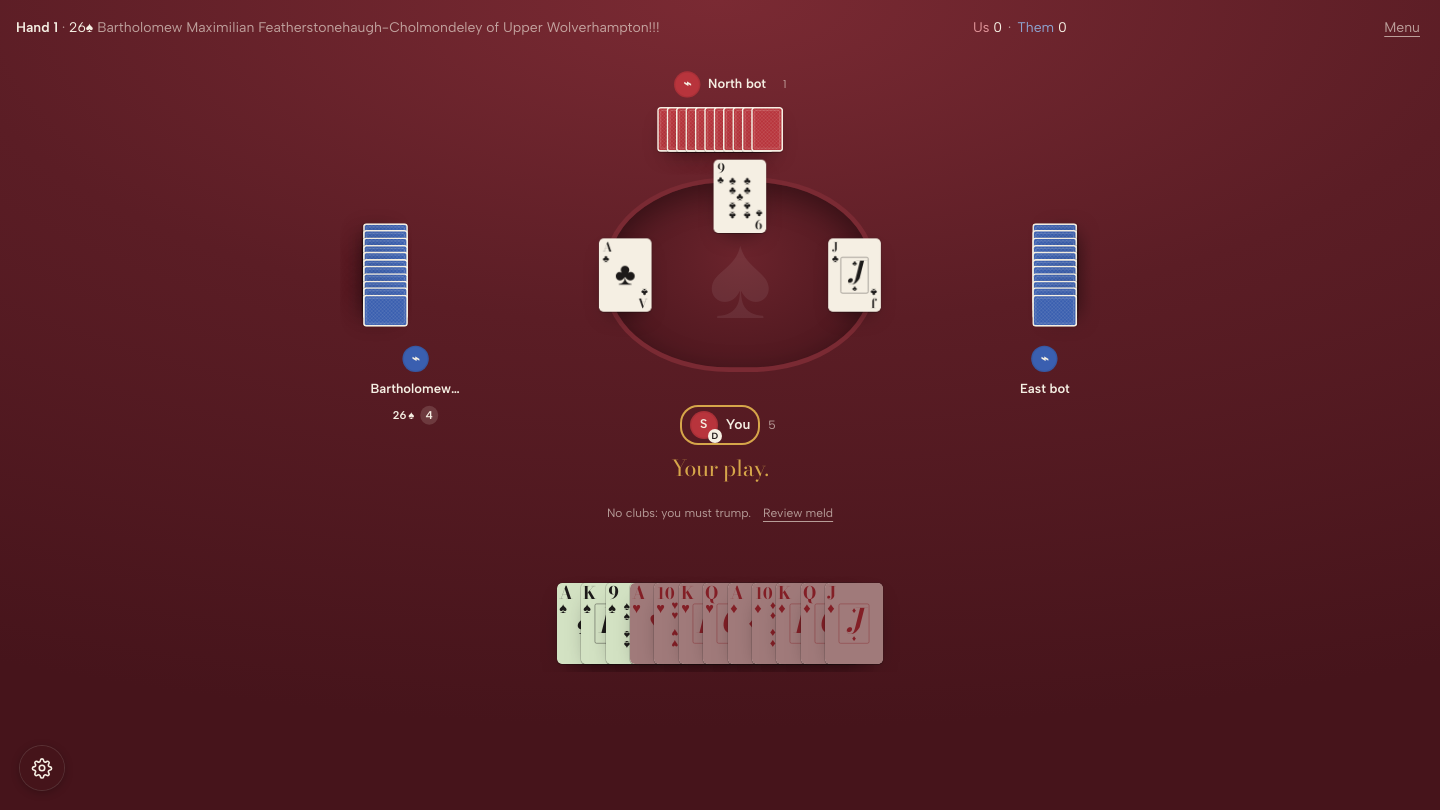
trick play status above the hand › in the first trick, shows the hand's meld again in place of a last trick
Click the button "Review meld". click: (798, 513)
box: 763,505 -> 833,521
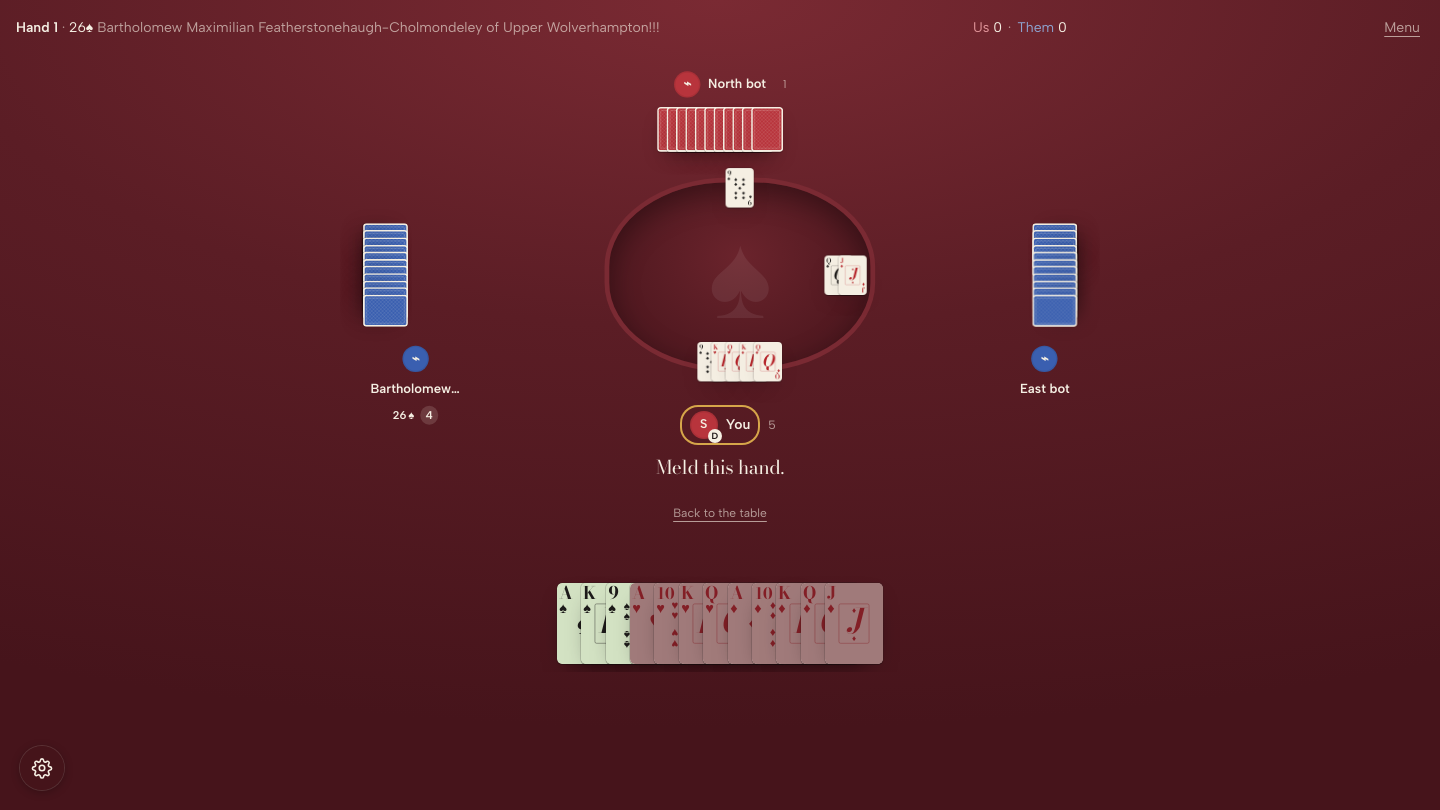
Expected: the element showing "Meld this hand. Back to the table" is shown, 656,454 -> 784,521
Expected: the 4th element with class "meld-fly" is shown, 698,342 -> 726,381
Click the button "Back to the table". click: (720, 513)
box: 673,505 -> 767,521
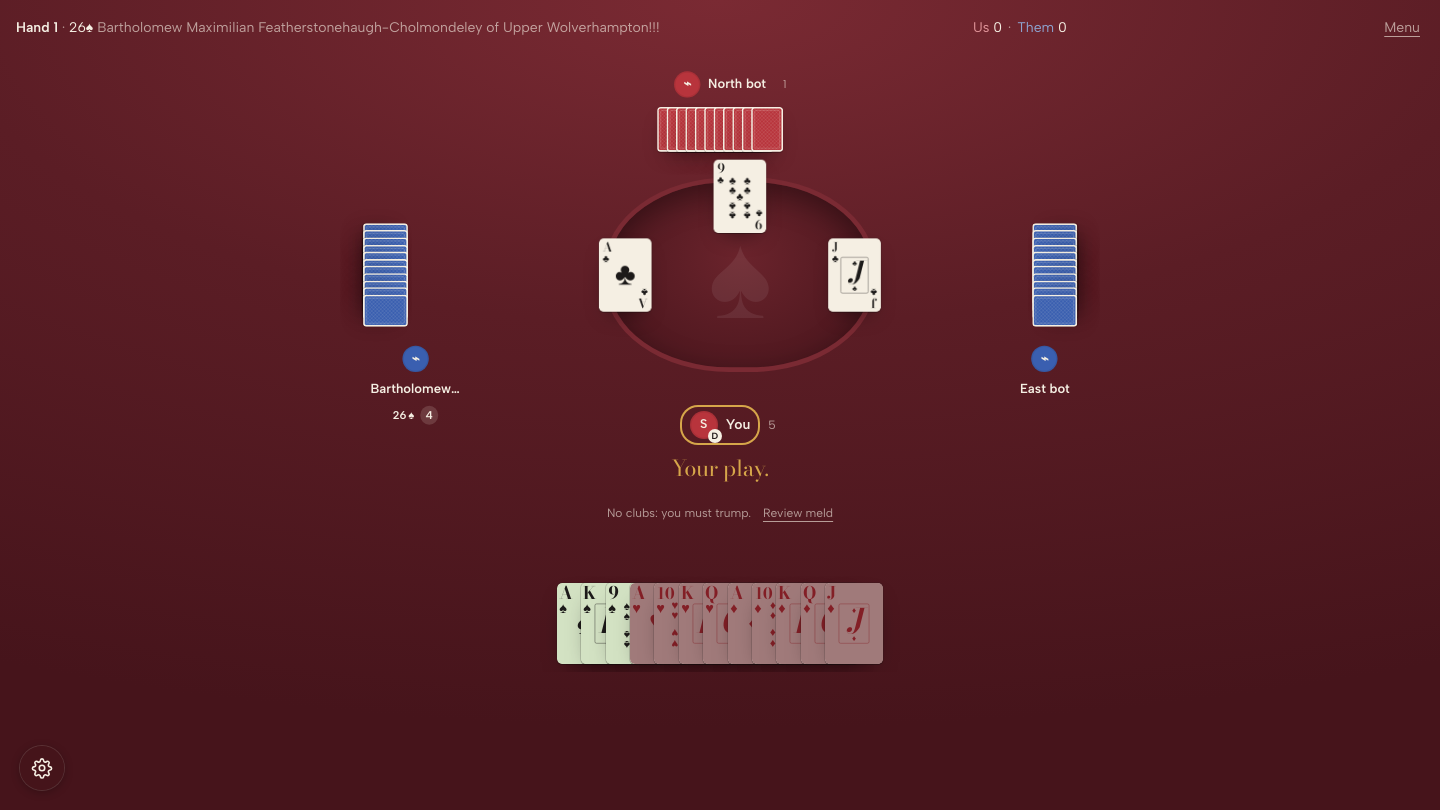
Expected: the element showing "Your play. No clubs: you must trump. Review meld" is shown, 607,451 -> 833,521
